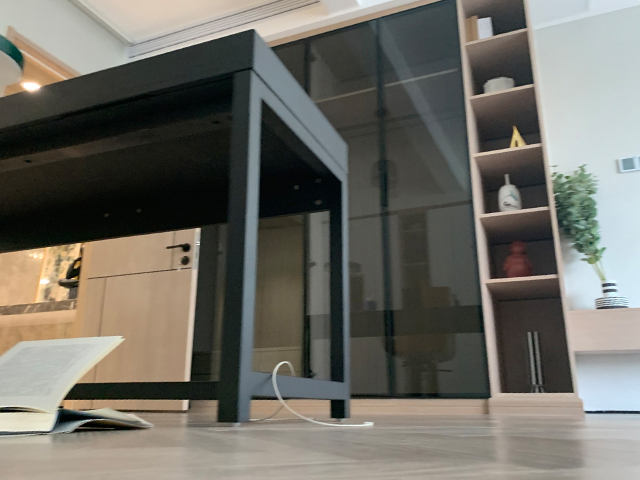book: (1, 334, 154, 437)
table: (1, 28, 354, 425)
wire: (247, 359, 375, 429)
